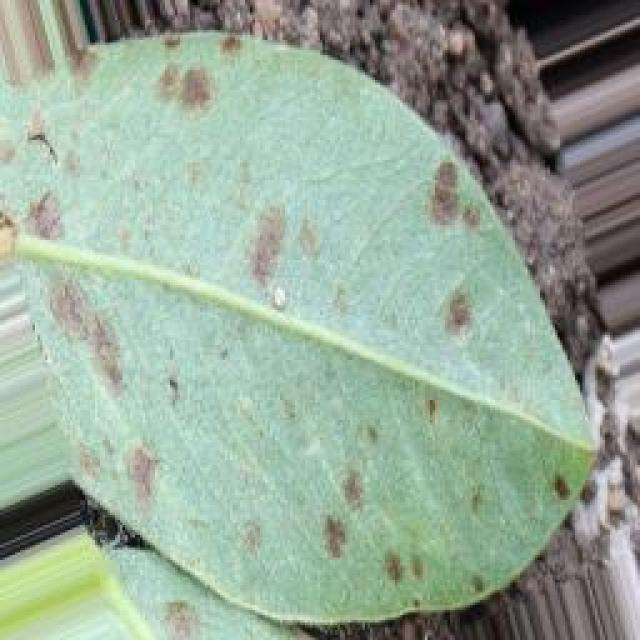Whitefly: (35, 247, 201, 530), (267, 434, 469, 618), (0, 100, 252, 240), (401, 112, 510, 269), (230, 169, 340, 322), (118, 18, 254, 128), (390, 256, 511, 379), (535, 446, 583, 528)
